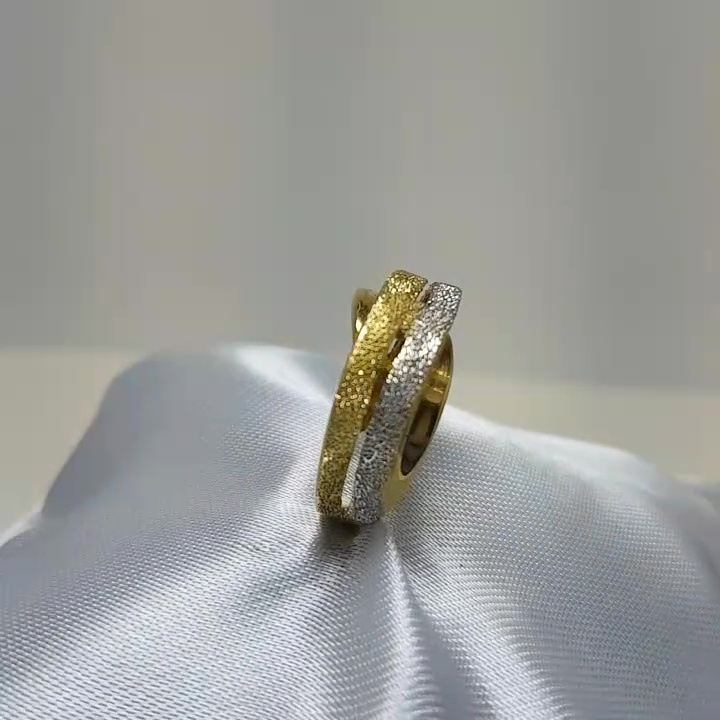Ring 5: (285, 264, 491, 534)
